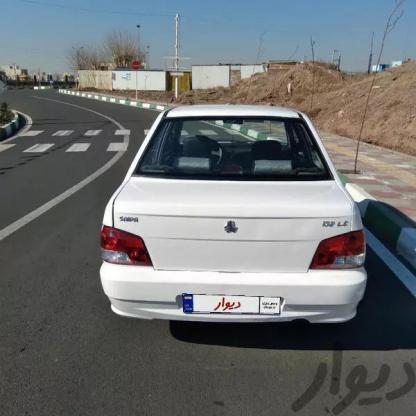Car: (91, 95, 369, 341)
